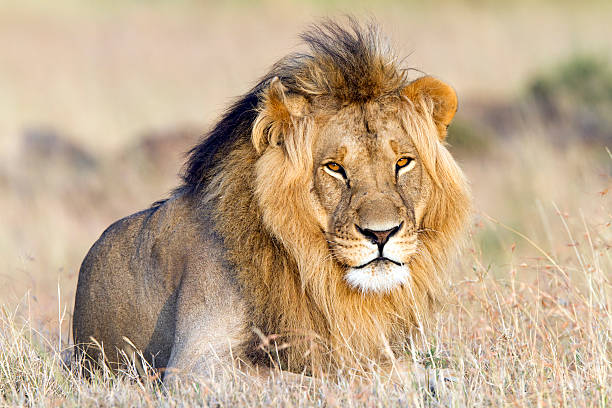lion: (153, 14, 495, 390)
